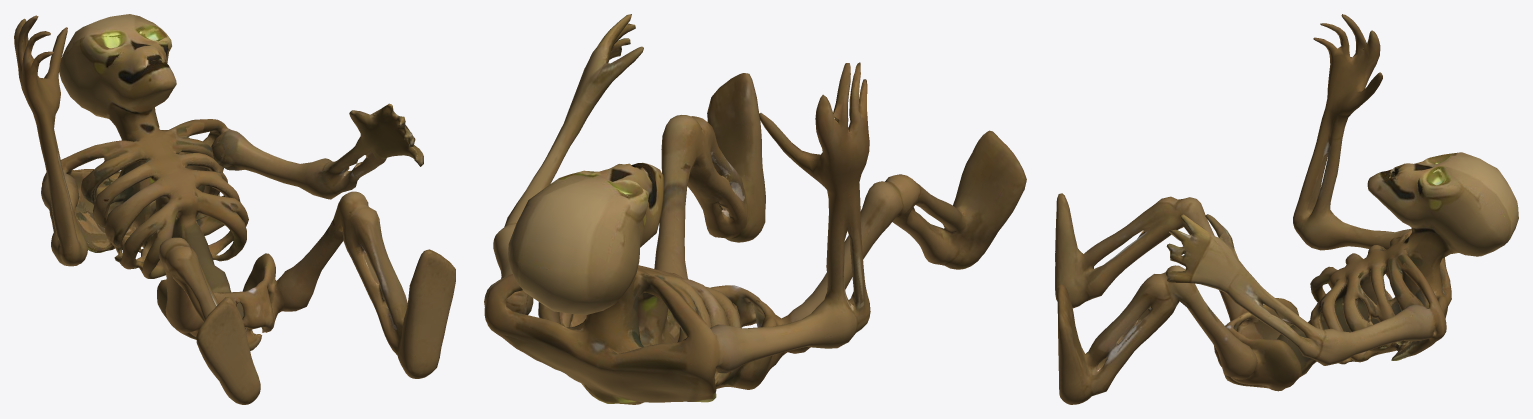
The model's file is Gashadokuro.glb.
The picture shows the model from 3 angles, left to right: view 1: azimuth 30°, elevation 25°; view 2: azimuth 150°, elevation 25°; view 3: azimuth 270°, elevation 25°; orthographic projection. The views are drawn at different scales.
Visible parts, largest first — view 1: Retopo_gashadokuro.002; view 2: Retopo_gashadokuro.002; view 3: Retopo_gashadokuro.002.
Part boxes in pixels (x1,y1,x2,y2): Retopo_gashadokuro.002: (14,14,455,404); Retopo_gashadokuro.002: (484,14,1026,404); Retopo_gashadokuro.002: (1055,14,1518,404).
Size of the model in its own units: 1.39 by 1.41 by 1.95.
1 material, 1 textured.
